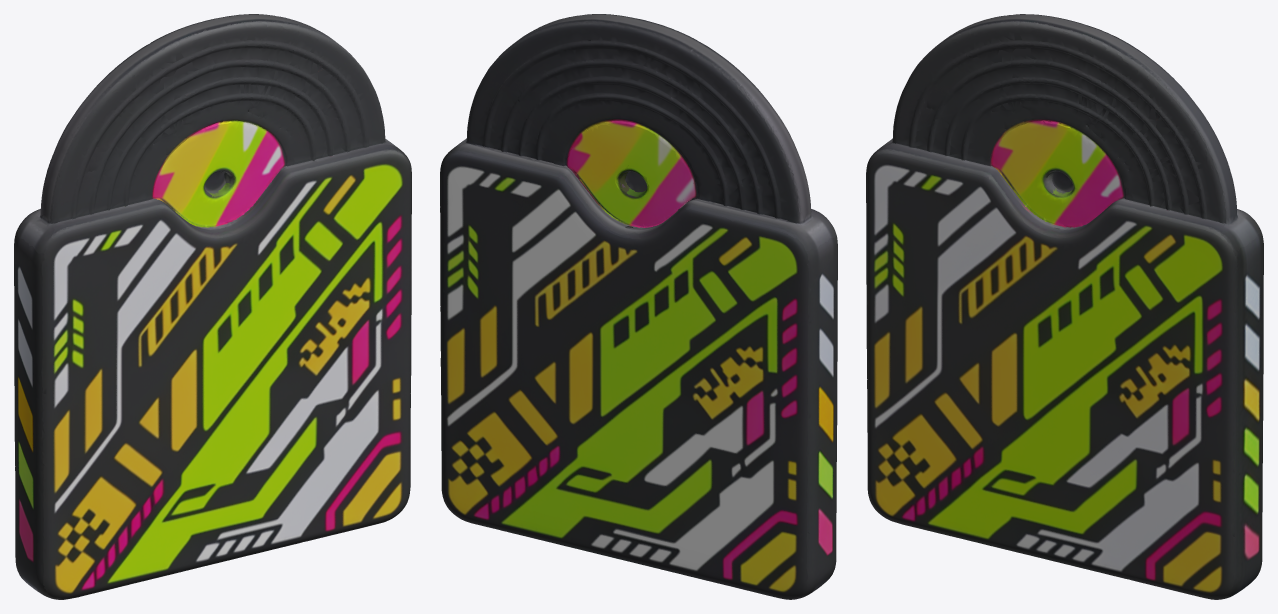
File: u_prp_vinyl_record.glb
3 renders of one model, left to right at view 1: azimuth 30°, elevation 25°; view 2: azimuth 150°, elevation 25°; view 3: azimuth 330°, elevation 25°, orthographic.
Parts seen in each view (by area): view 1: geometry_0; view 2: geometry_0; view 3: geometry_0.
Part boxes in pixels (x1,y1,x2,y2): geometry_0: [14, 14, 411, 599]; geometry_0: [440, 14, 837, 599]; geometry_0: [866, 14, 1263, 599].
Bounding box in the file's own units: 0.32 × 0.4309 × 0.0473.
Materials: 1 (1 with a texture image).
